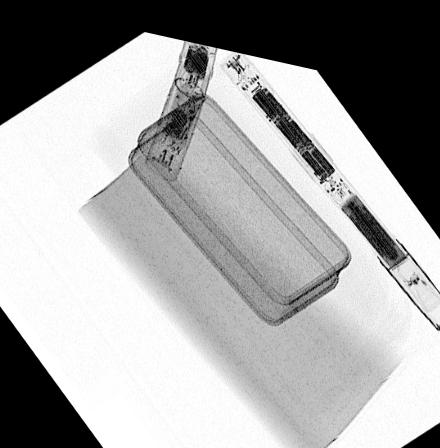Baton: (216, 40, 440, 311), (142, 32, 217, 174)
